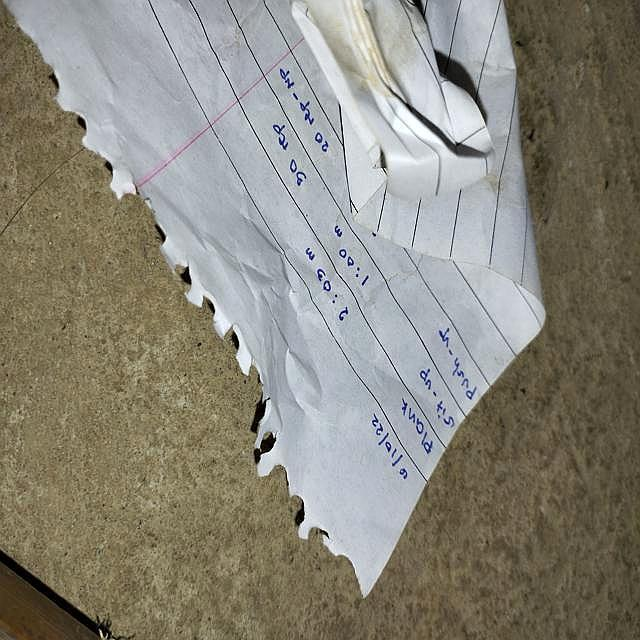Biodegradable: (1, 1, 550, 608)
